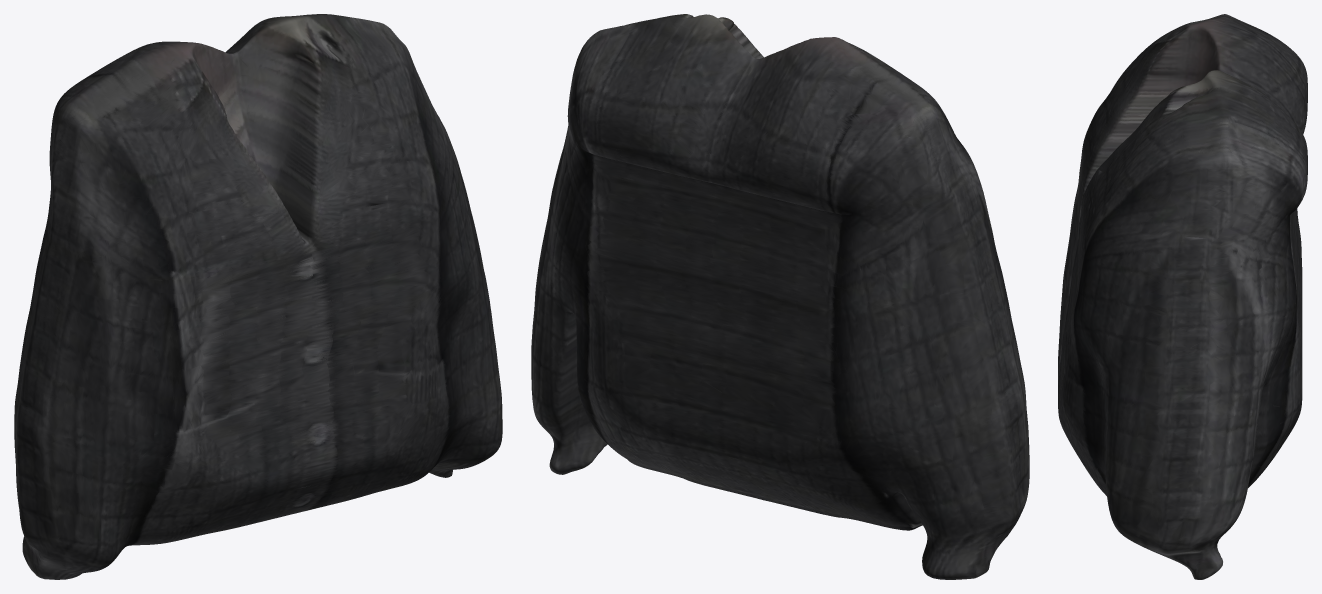
File: NF011-worn-v3.glb
The picture shows the model from 3 angles, left to right: view 1: azimuth 30°, elevation 25°; view 2: azimuth 150°, elevation 25°; view 3: azimuth 270°, elevation 25°; orthographic projection. The views are drawn at different scales.
Visible parts, largest first — view 1: NF011_worn_photo_fitted; view 2: NF011_worn_photo_fitted; view 3: NF011_worn_photo_fitted.
Part boxes in pixels (box(x1,y1,x2,y2)): NF011_worn_photo_fitted: box(14, 14, 502, 579); NF011_worn_photo_fitted: box(531, 14, 1029, 579); NF011_worn_photo_fitted: box(1058, 14, 1307, 579).
Size of the model in its own units: 0.5682 by 0.5701 by 0.2922.
1 material, 1 textured.
